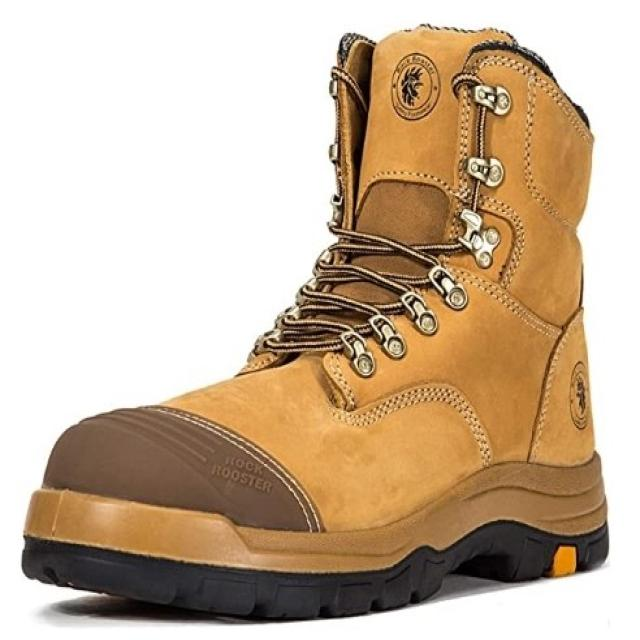boot: (18, 16, 616, 612)
